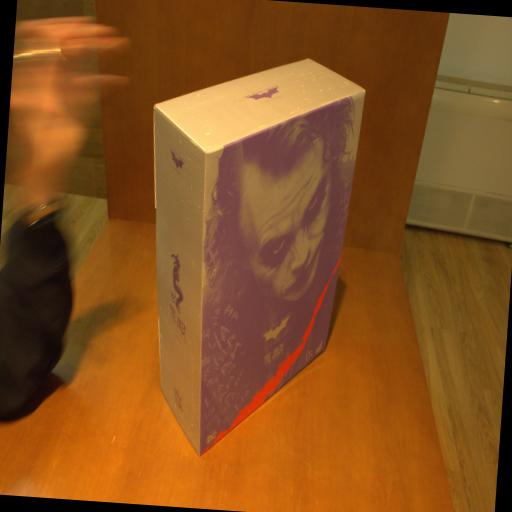Joker: (131, 48, 367, 468)
